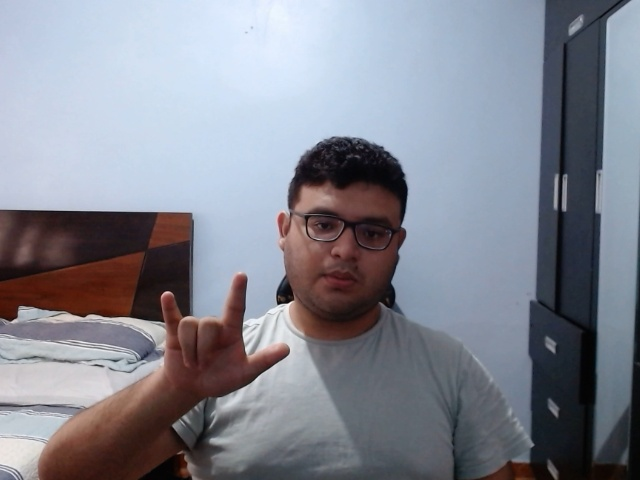I love you: (155, 269, 291, 403)
